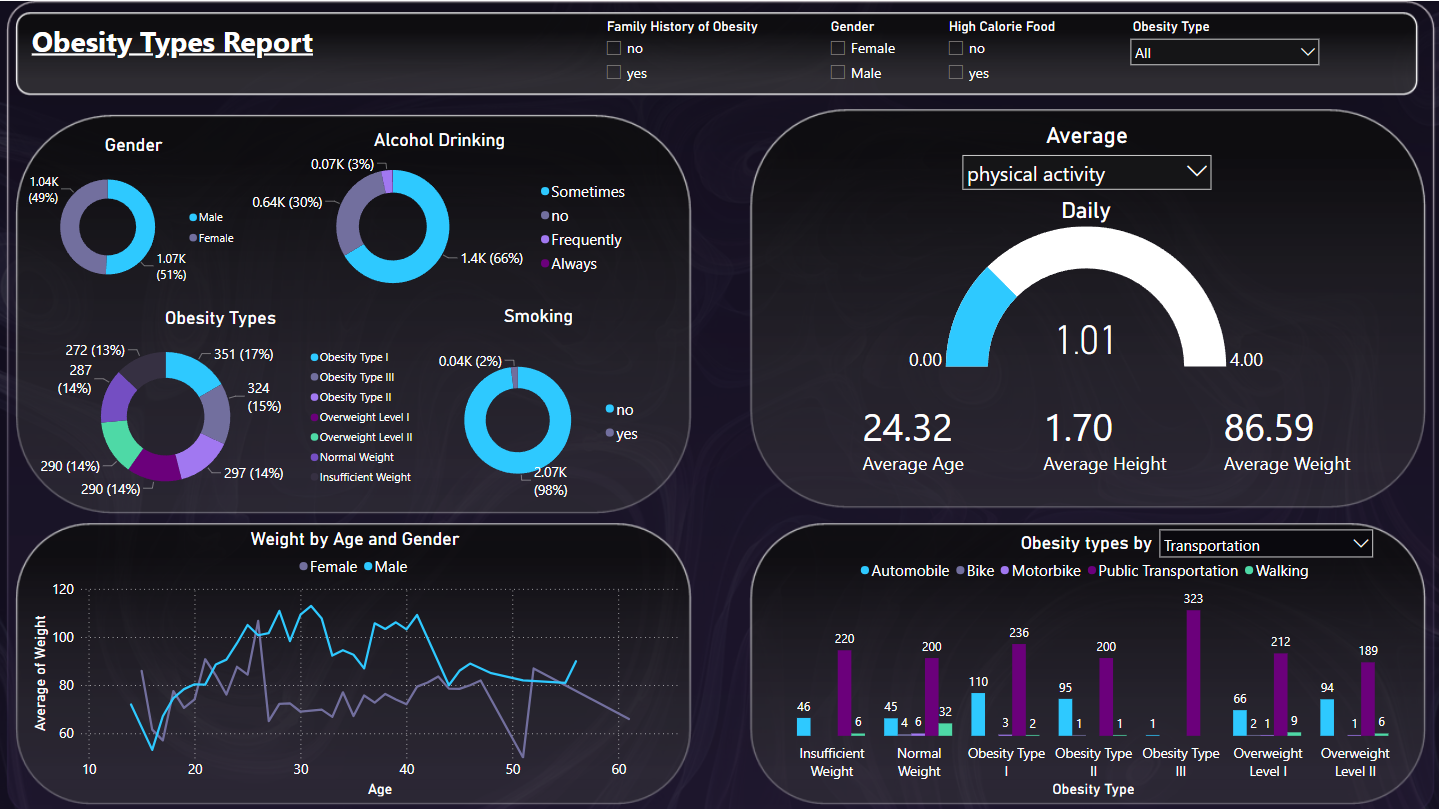

Layout of this report page (visuals, bound fields, positions):
{"tool":"powerbi","page":{"name":"Page 1","canvas":[1920,1080],"ordinal":0},"visuals":[{"type":"donutChart","title":"Obesity Types","fields":{"Category":["obesity_clean.NObeyesdad"],"Y":["CountNonNull(obesity_clean.NObeyesdad)"]},"box":[26.6,407,538.7,264.7],"z":0},{"type":"clusteredColumnChart","title":"Obesity types by","fields":{"Series":["obesity_clean.Transportation"],"Category":["obesity_clean.NObeyesdad"],"Y":["CountNonNull(obesity_clean.Obesity Type)"]},"box":[992.3,706.4,910.8,357.1],"z":1000},{"type":"lineChart","title":"Weight by Age and Gender","fields":{"Category":["obesity_clean.Age"],"Y":["Avg(obesity_clean.Weight)"],"Series":["obesity_clean.Gender"]},"box":[38.8,701.2,872,362.3],"z":2000},{"type":"slicer","title":"Legend Selected","fields":{"Values":["Parameter.Parameter"]},"box":[1534.4,693.5,304,56.9],"z":3000},{"type":"donutChart","title":"Gender","fields":{"Category":["obesity_clean.Gender"],"Y":["CountNonNull(obesity_clean.Gender)"]},"box":[33.6,177.3,294.2,220.3],"z":4000},{"type":"donutChart","title":"Alcohol Drinking","fields":{"Category":["obesity_clean.Alcohol Drinking"],"Y":["CountNonNull(obesity_clean.Alcohol Drinking)"]},"box":[326.4,170.6,522.5,232.4],"z":5000},{"type":"donutChart","title":"Smoking","fields":{"Category":["obesity_clean.Smoking"],"Y":["CountNonNull(obesity_clean.Smoking)"]},"box":[571.9,405,293.7,279.5],"z":6000},{"type":"slicer","fields":{"Values":["obesity_clean.Obesity Type"]},"box":[1496.4,17.5,271.3,84.6],"z":7000},{"type":"slicer","fields":{"Values":["obesity_clean.Gender"]},"box":[1094.8,17.5,157.2,103.4],"z":8000},{"type":"slicer","fields":{"Values":["obesity_clean.Family History of Obesity"]},"box":[796.6,17.5,299.6,103.4],"z":9000},{"type":"textbox","box":[39.9,22.6,420.3,93.1],"z":10000},{"type":"slicer","title":"Average","fields":{"Values":["Gauge Parameter.Gauge Parameter"]},"box":[1271.8,160.4,350.6,100.9],"z":11000},{"type":"slicer","fields":{"Values":["obesity_clean.High Calorie Food"]},"box":[1251.9,17.5,244.5,103.4],"z":12000},{"type":"gauge","title":"Daily","fields":{"Y":["obesity_clean.physical activity"]},"box":[1143.7,261.3,587.4,234.2],"z":13000},{"type":"multiRowCard","fields":{"Values":["Avg(obesity_clean.Age)","Avg(obesity_clean.Height)","Avg(obesity_clean.Weight)"]},"box":[1072.6,530.5,741.3,135.8],"z":14000}]}

Visuals, with their boxes in screenshot pixels (x1, y1, x2, y2), scaled from the page's 1920x1080 canvas onto the 1439x809 screenshot:
"Obesity Types" donutChart: bbox=(20, 305, 424, 503)
"Obesity types by" clusteredColumnChart: bbox=(744, 529, 1426, 797)
"Weight by Age and Gender" lineChart: bbox=(29, 525, 683, 797)
"Legend Selected" slicer: bbox=(1150, 519, 1378, 562)
"Gender" donutChart: bbox=(25, 133, 246, 298)
"Alcohol Drinking" donutChart: bbox=(245, 128, 636, 302)
"Smoking" donutChart: bbox=(429, 303, 649, 513)
slicer - obesity_clean.Obesity Type: bbox=(1122, 13, 1325, 76)
slicer - obesity_clean.Gender: bbox=(821, 13, 938, 91)
slicer - obesity_clean.Family History of Obesity: bbox=(597, 13, 822, 91)
textbox: bbox=(30, 17, 345, 87)
"Average" slicer: bbox=(953, 120, 1216, 196)
slicer - obesity_clean.High Calorie Food: bbox=(938, 13, 1122, 91)
"Daily" gauge: bbox=(857, 196, 1297, 371)
multiRowCard - Avg(obesity_clean.Age) x Avg(obesity_clean.Height): bbox=(804, 397, 1359, 499)
